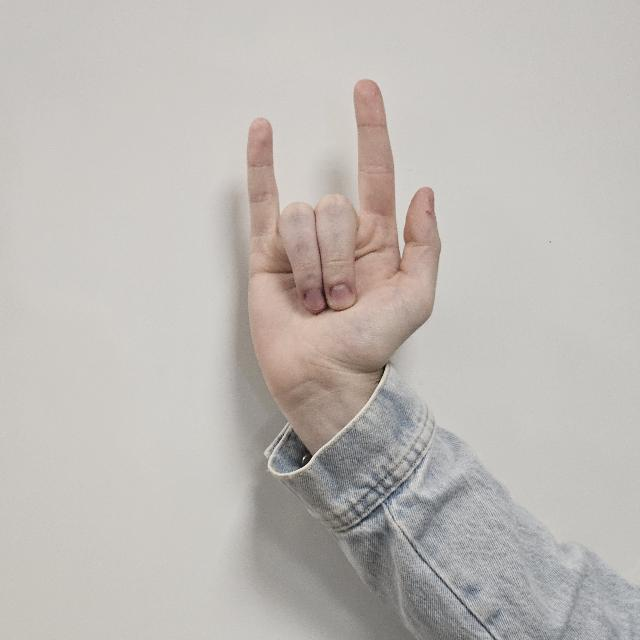L: (242, 99, 442, 383)
